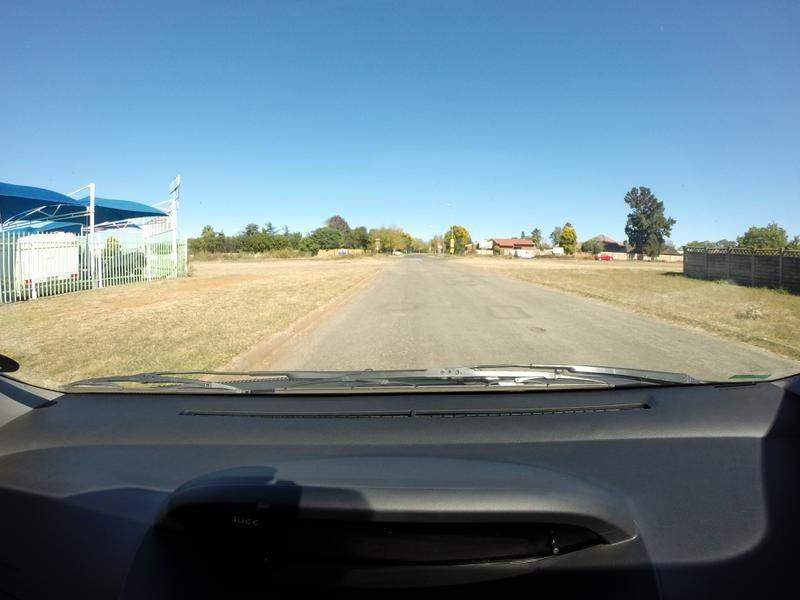pothole: (524, 317, 564, 342)
